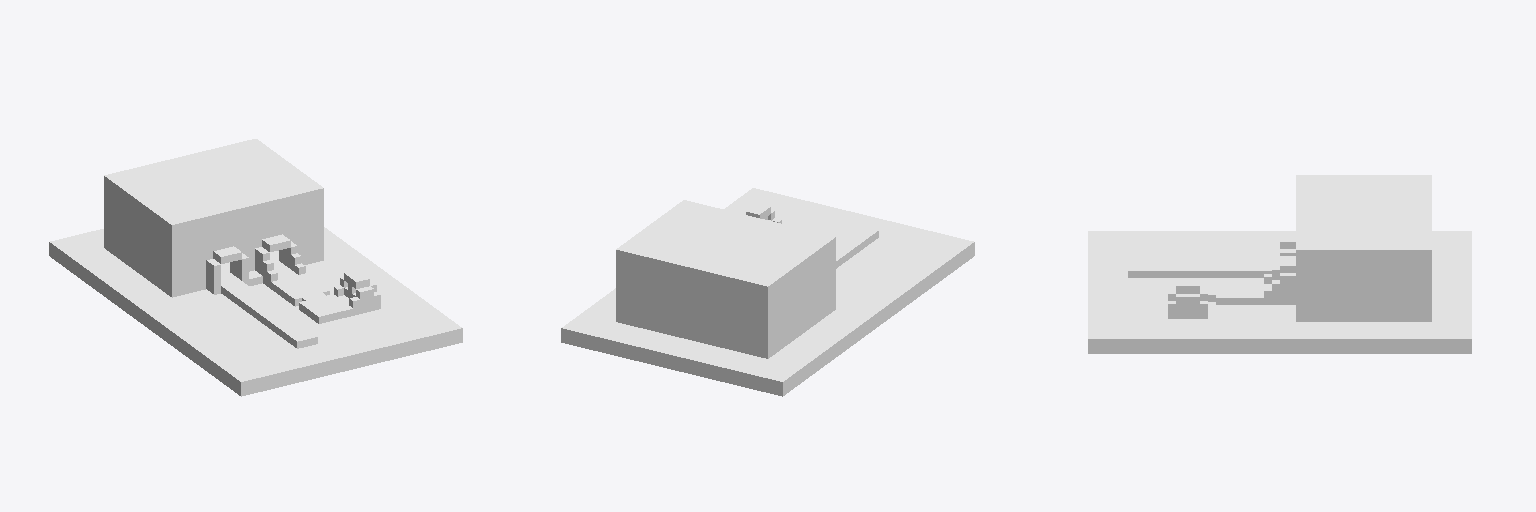
File: world.obj
3 renders of one model, left to right at view 1: azimuth 30°, elevation 25°; view 2: azimuth 150°, elevation 25°; view 3: azimuth 270°, elevation 25°, orthographic.
Parts seen in each view (by area): view 1: New_World__-98_2_-9_to_-67_255_38; view 2: New_World__-98_2_-9_to_-67_255_38; view 3: New_World__-98_2_-9_to_-67_255_38.
Part boxes in pixels (left/top/right/bottom): New_World__-98_2_-9_to_-67_255_38: left=49, top=139, right=462, bottom=396; New_World__-98_2_-9_to_-67_255_38: left=561, top=188, right=974, bottom=396; New_World__-98_2_-9_to_-67_255_38: left=1088, top=175, right=1471, bottom=353.
Bounding box in the file's own units: 32 × 12 × 48.